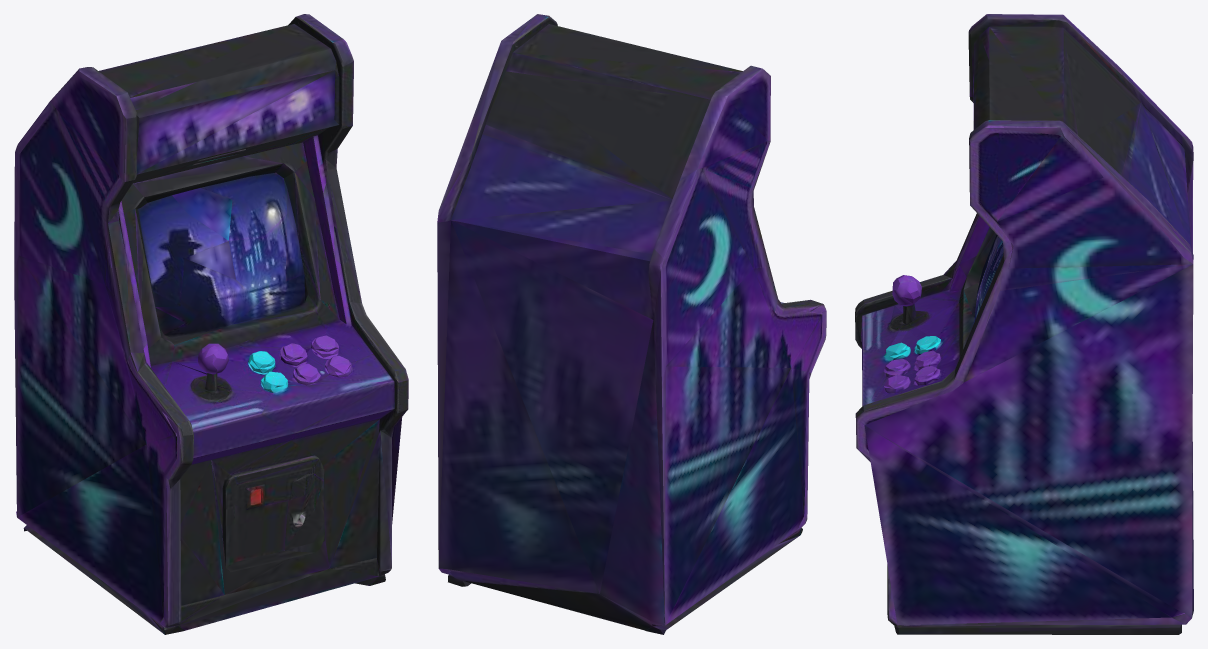
File: fliperama.glb
3 views of the same model, side by side, from view 1: azimuth 30°, elevation 25°; view 2: azimuth 150°, elevation 25°; view 3: azimuth 270°, elevation 25° (orthographic). The views are drawn at different scales.
Visible parts, largest first — view 1: Mesh_0; view 2: Mesh_0; view 3: Mesh_0.
Part boxes in pixels (<box>): Mesh_0: <box>14,14,408,634</box>; Mesh_0: <box>437,14,826,634</box>; Mesh_0: <box>855,14,1193,634</box>.
Bounding box in the file's own units: 0.8553 × 1.8 × 1.08.
Materials: 1 (1 with a texture image).
